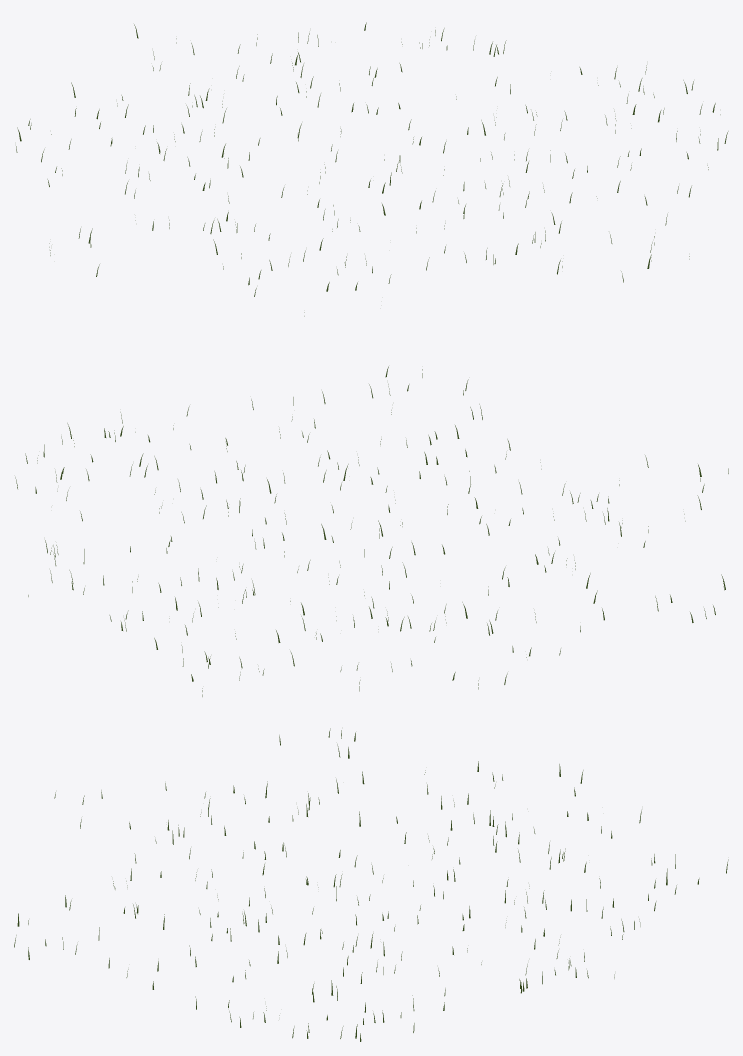
The picture shows the model from 3 angles, top to bottom: view 1: azimuth 30°, elevation 25°; view 2: azimuth 150°, elevation 25°; view 3: azimuth 270°, elevation 25°; orthographic projection. The views are drawn at different scales.
Visible parts, largest first — view 1: GrassPatch; view 2: GrassPatch; view 3: GrassPatch.
Boxes of the visible parts, x1,y1,x2,y2 form: GrassPatch: (16, 22, 728, 316); GrassPatch: (15, 366, 728, 696); GrassPatch: (14, 728, 728, 1041).
Bounding box in the file's own units: 19.26 × 0.4919 × 19.04.
